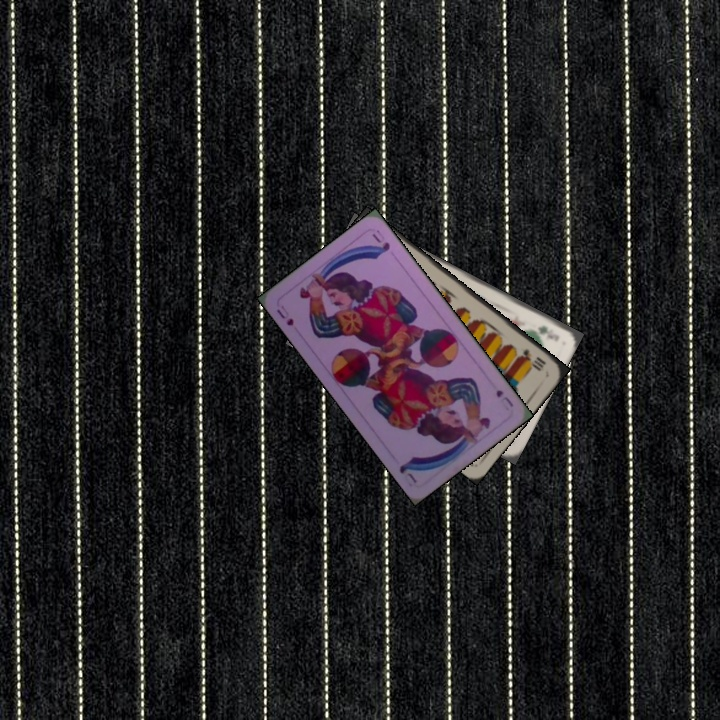E10: (512, 345, 548, 374)
GK: (534, 322, 556, 342)
SU: (272, 301, 296, 328), (492, 386, 516, 410)
